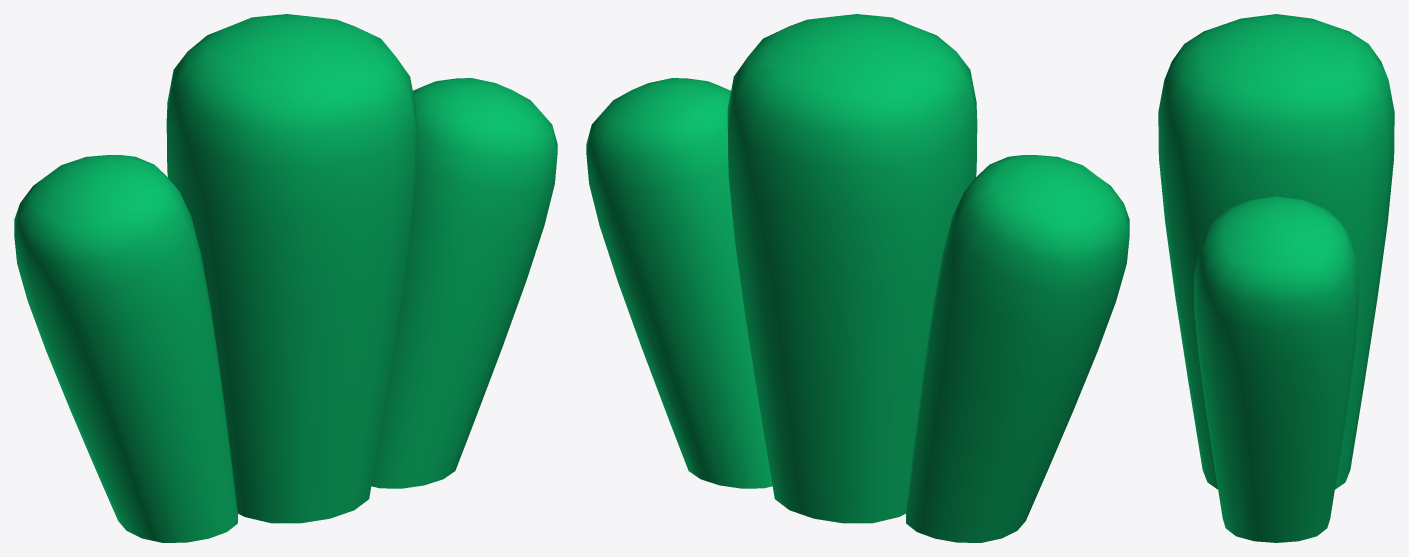
Rendered from City_5_Plant_1.glb.
3 renders of one model, left to right at view 1: azimuth 30°, elevation 25°; view 2: azimuth 150°, elevation 25°; view 3: azimuth 270°, elevation 25°, orthographic. The views are drawn at different scales.
Visible parts, largest first — view 1: City_5_Plant_1; view 2: City_5_Plant_1; view 3: City_5_Plant_1.
Part boxes in pixels (<box>): City_5_Plant_1: <box>14,14,557,542</box>; City_5_Plant_1: <box>586,14,1129,542</box>; City_5_Plant_1: <box>1158,14,1394,542</box>.
Bounding box in the file's own units: 1.47 × 1.25 × 0.6086.
1 material, 1 textured.
